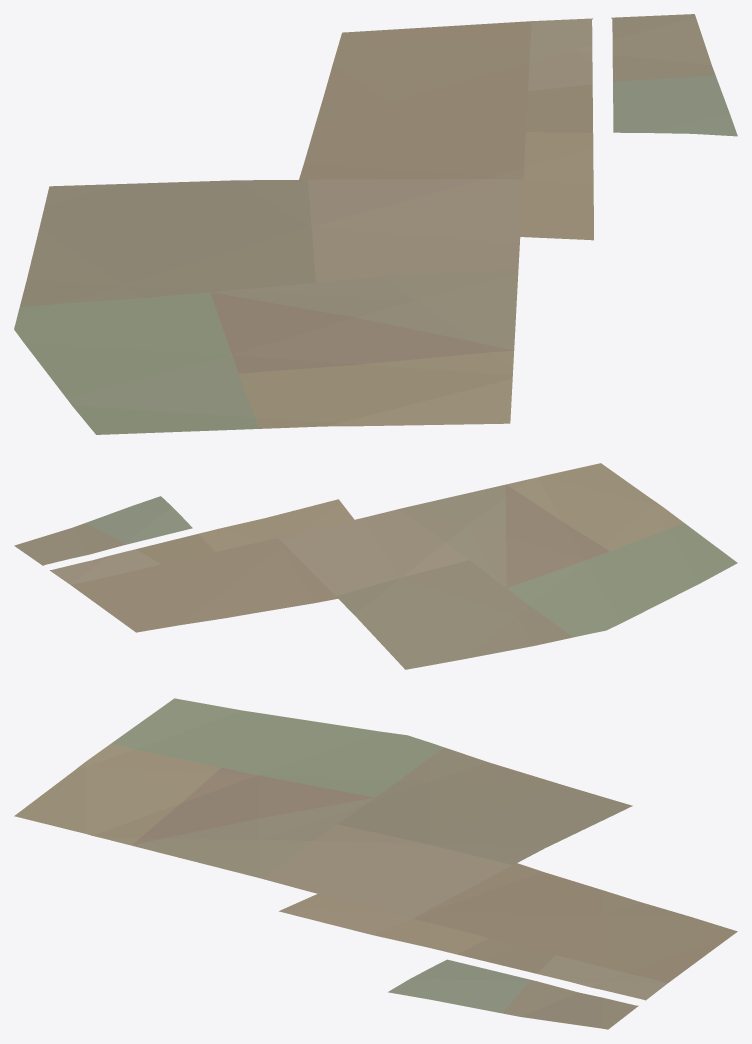
Rendered from farm_-7_-13_soil.glb.
The picture shows the model from 3 angles, top to bottom: view 1: azimuth 30°, elevation 25°; view 2: azimuth 150°, elevation 25°; view 3: azimuth 270°, elevation 25°; orthographic projection. The views are drawn at different scales.
Parts seen in each view (by area): view 1: geometry_0; view 2: geometry_0; view 3: geometry_0.
Boxes of the visible parts, left/top/right/bottom form: geometry_0: left=14, top=14, right=737, bottom=434; geometry_0: left=14, top=463, right=737, bottom=669; geometry_0: left=14, top=698, right=737, bottom=1029.
Bounding box in the file's own units: 376 × 13.11 × 337.
